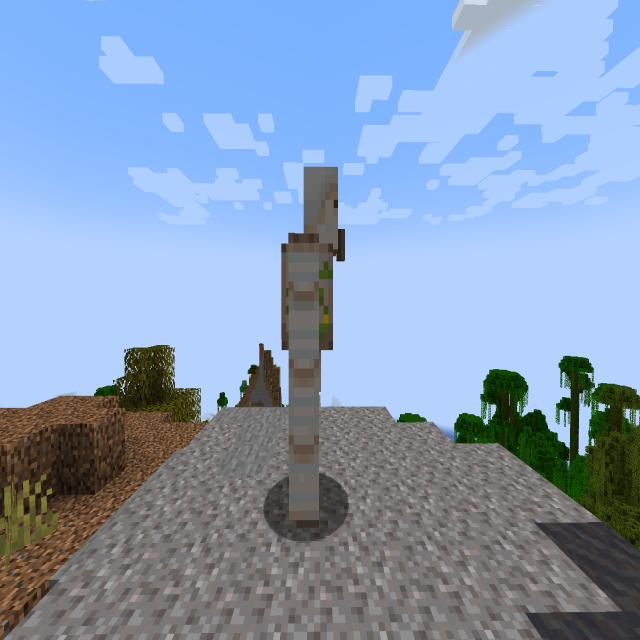iron golem: (274, 157, 354, 536)
